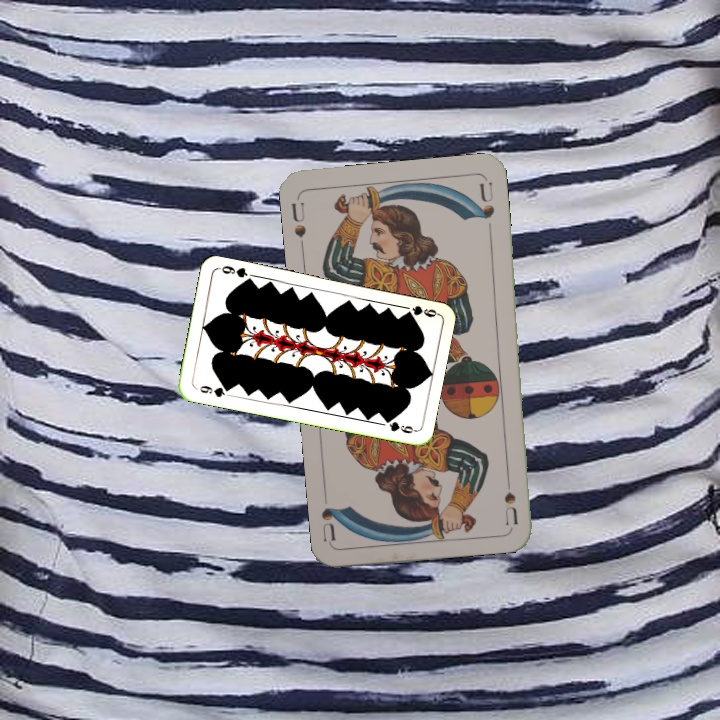G9: (402, 301, 440, 320), (196, 381, 233, 400)
SU: (500, 467, 521, 526), (287, 198, 309, 254)
